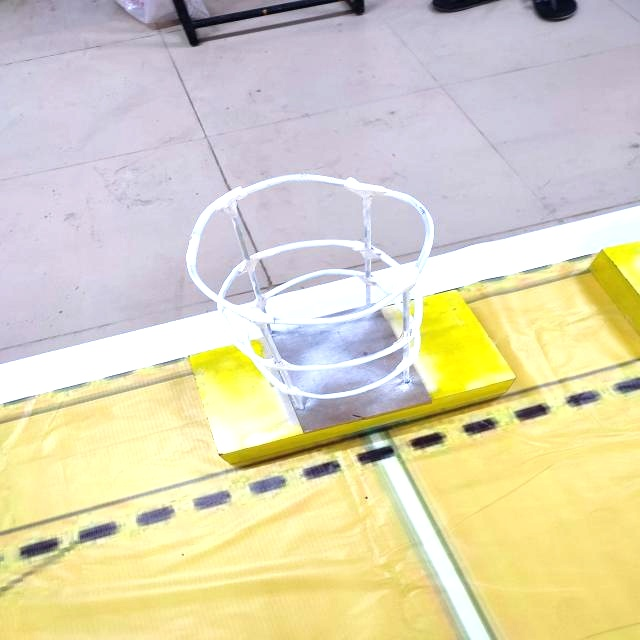silo: (171, 162, 470, 451)
